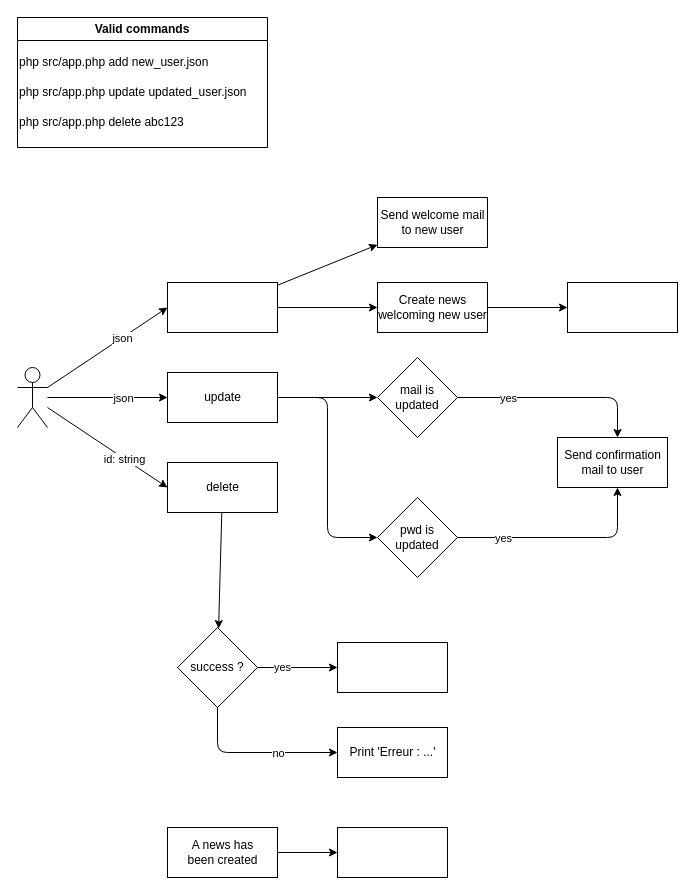
Image size: 695x895. Some labels were removed from this diagram. Each missing label, with the centre of its shape:
"add" goes at [222,307].
"Print 'OK'" goes at [392,667].
"Send mail to all users" goes at [392,852].
"Send news in mail to all user except the new one" goes at [622,307].
"User" goes at [32,397].
